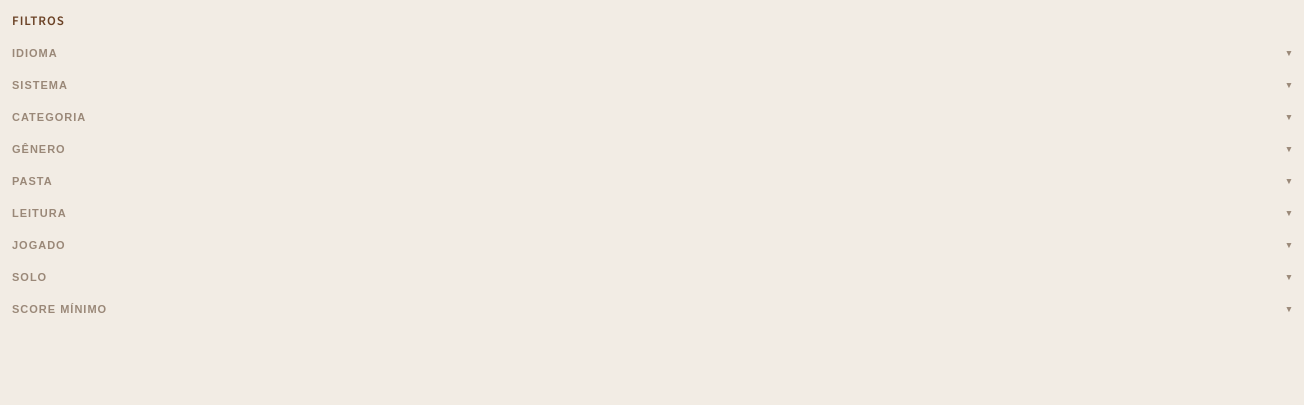
Test: FilterSidebar — filtros pessoais › renders played status options when section expanded
Click the button "Jogado ▾" at (39, 245), box 12,237 -> 1292,253
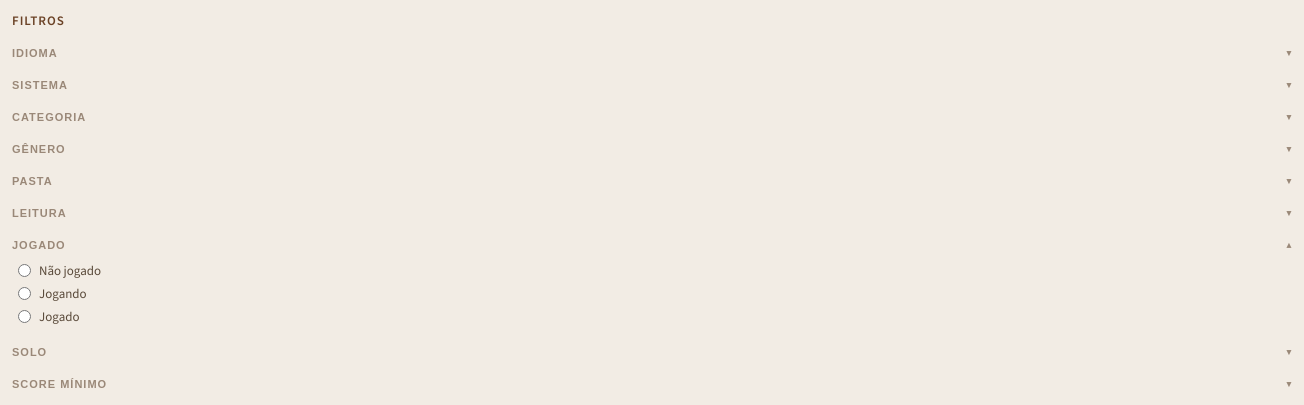
Check: the radio button labelled "Não jogado" is shown, box 18,264 -> 31,277
Check: the radio button labelled "Jogando" is shown, box 18,287 -> 31,300
Check: the radio button labelled "Jogado" is shown, box 18,310 -> 31,323
